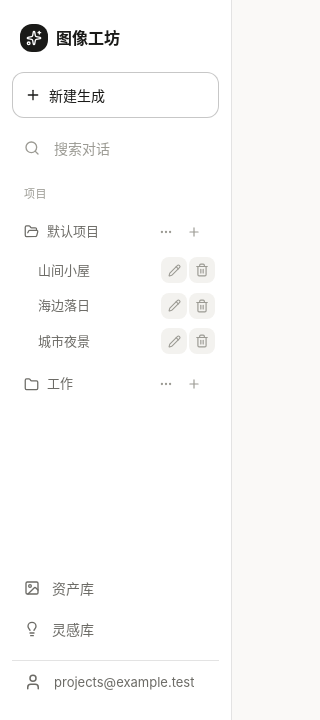
Sidebar 项目分组 › 默认项目展开显示会话，非默认项目收起；点击项目行切换展开/收起
Expected: the link "山间小屋" is shown, 38,262 -> 90,278
Expected: the link "城市夜景" is shown, 38,332 -> 90,348
Click the text "默认项目" at x=73, y=231, box 47,223 -> 99,239
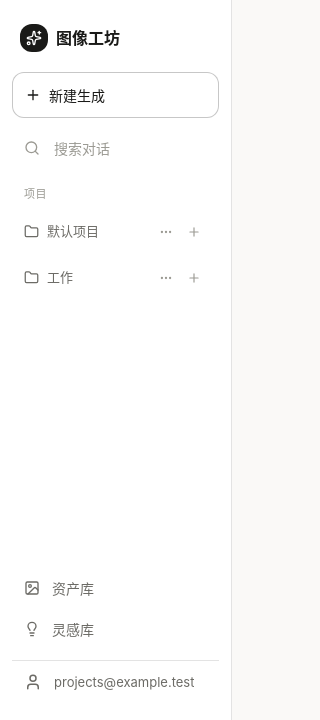
Expected: the link "山间小屋" is gone
Click the text "默认项目" at x=73, y=231, box 47,223 -> 99,239
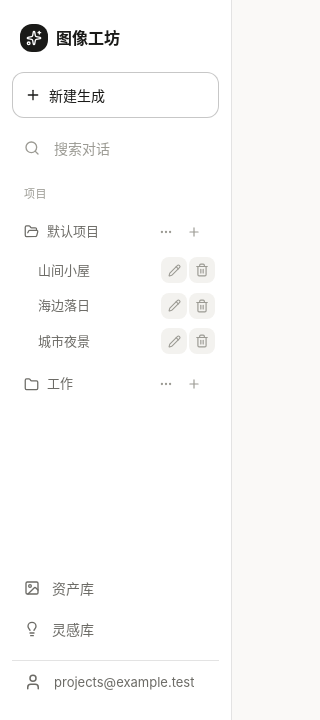
Expected: the text "项目内暂无会话" is not shown
Expected: the link "山间小屋" is shown, 38,262 -> 90,278
Click the text "工作" at x=60, y=383, box 47,375 -> 73,391
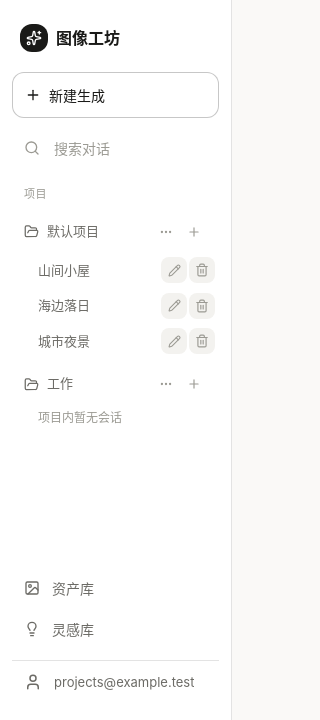
Expected: the text "项目内暂无会话" is shown, 38,410 -> 122,425
